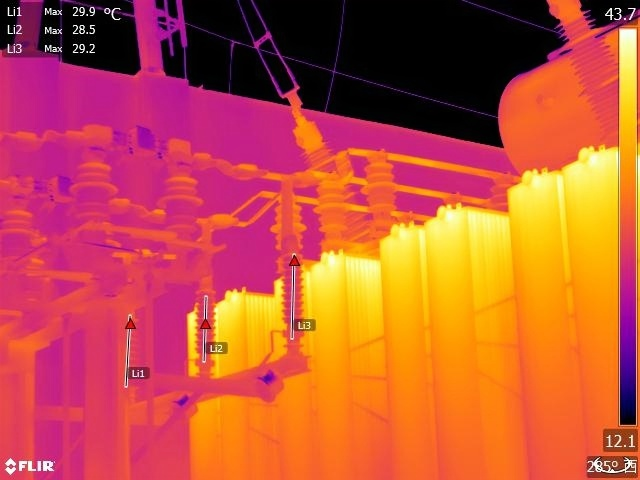oil conservator: (498, 7, 640, 171)
post insulator: (69, 162, 121, 227), (158, 172, 207, 238), (276, 245, 308, 342), (361, 152, 402, 222), (314, 175, 353, 236), (1, 202, 40, 260), (272, 198, 311, 253), (193, 279, 217, 360), (118, 315, 145, 386)
switch: (73, 116, 201, 174), (13, 167, 78, 205)
transformer: (179, 145, 619, 480)
tube: (548, 1, 619, 140), (296, 114, 371, 242)
